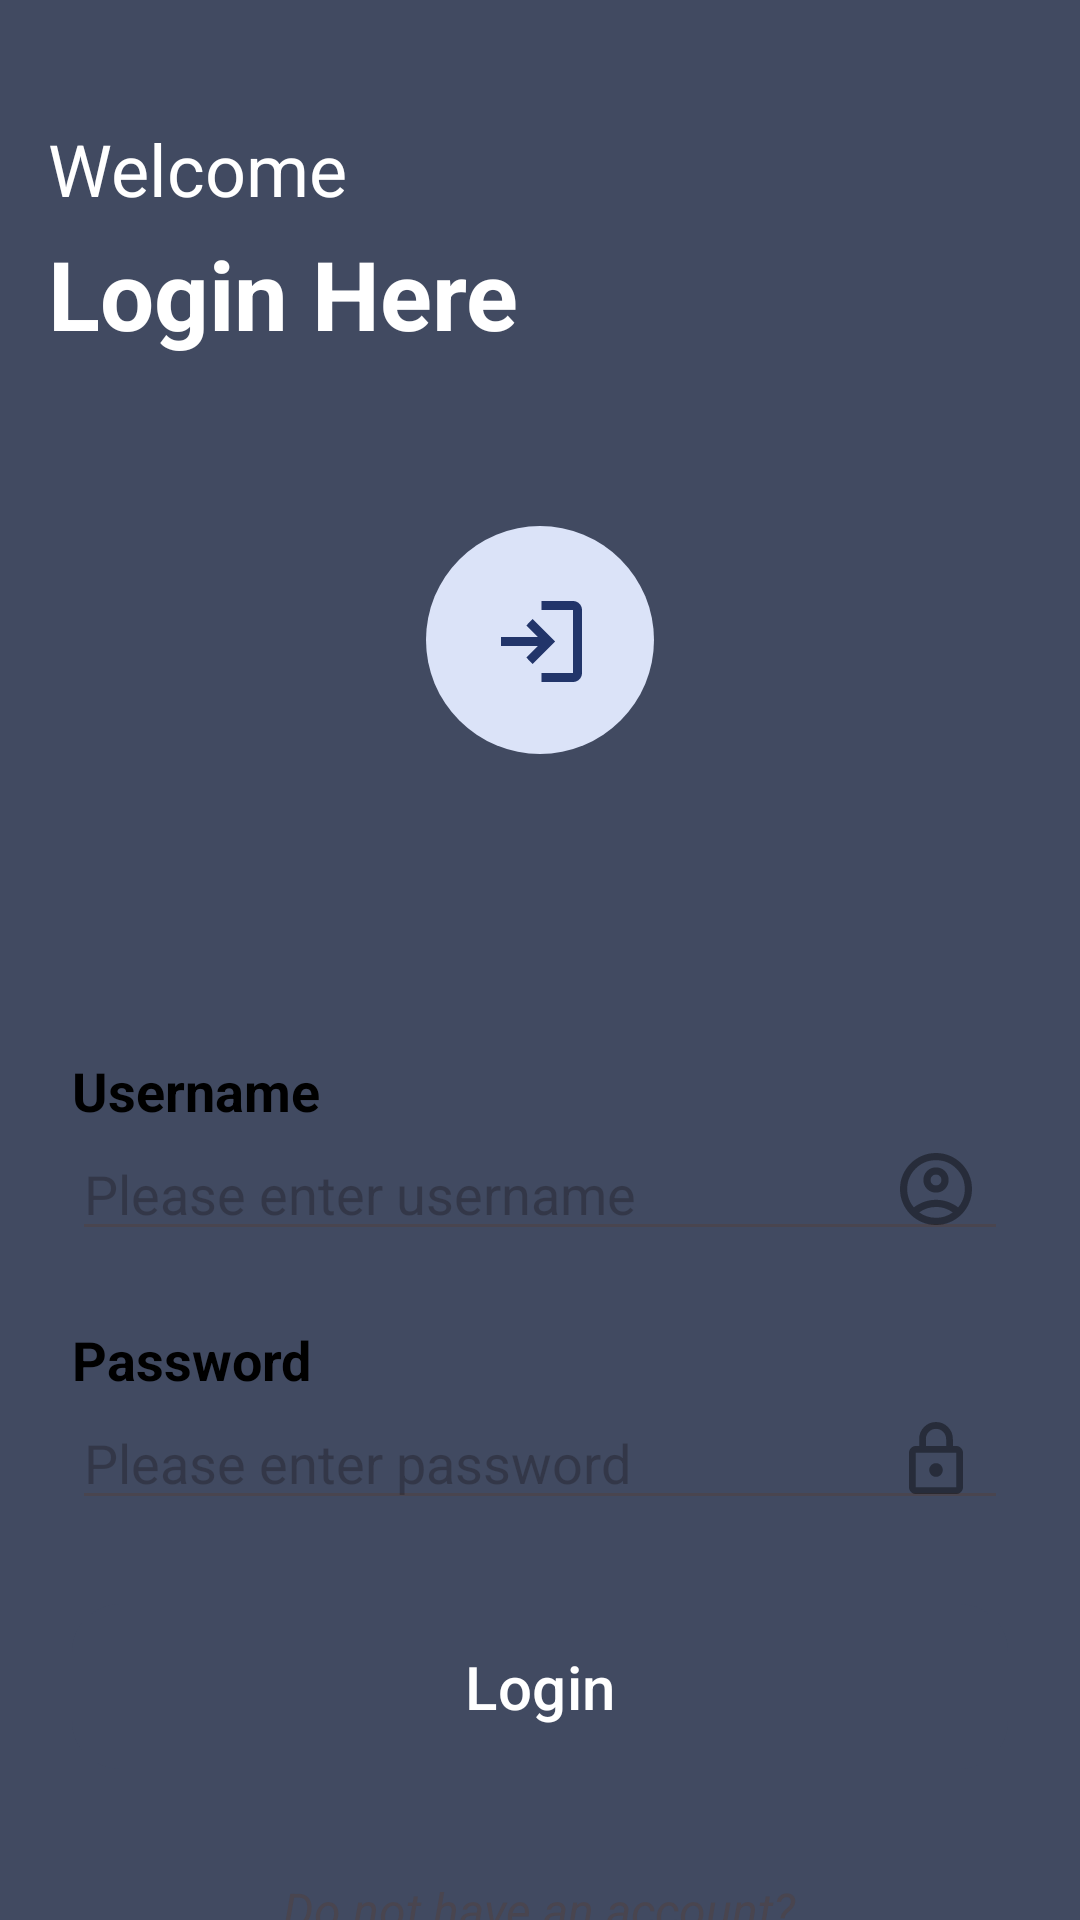

Icon click points for this 1080 × 1920 phone screenshot, format [x,y]:
lock: [936,1458]
Login: [540,640]
person: [936,1189]
